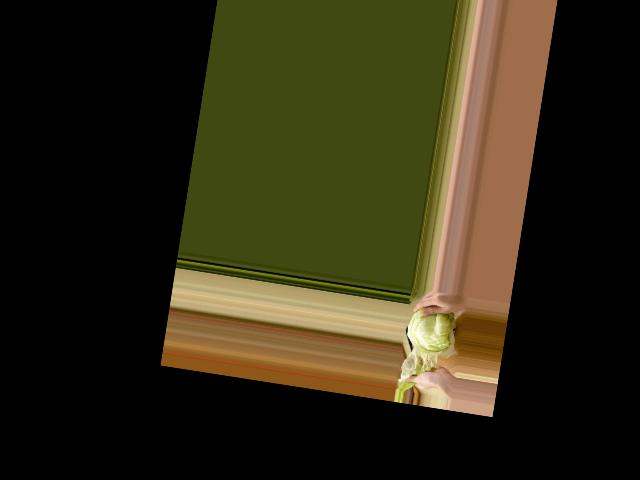lettuce: (400, 301, 463, 369)
